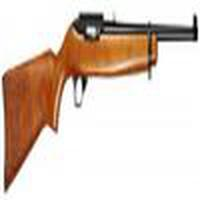gun: (3, 15, 197, 177)
